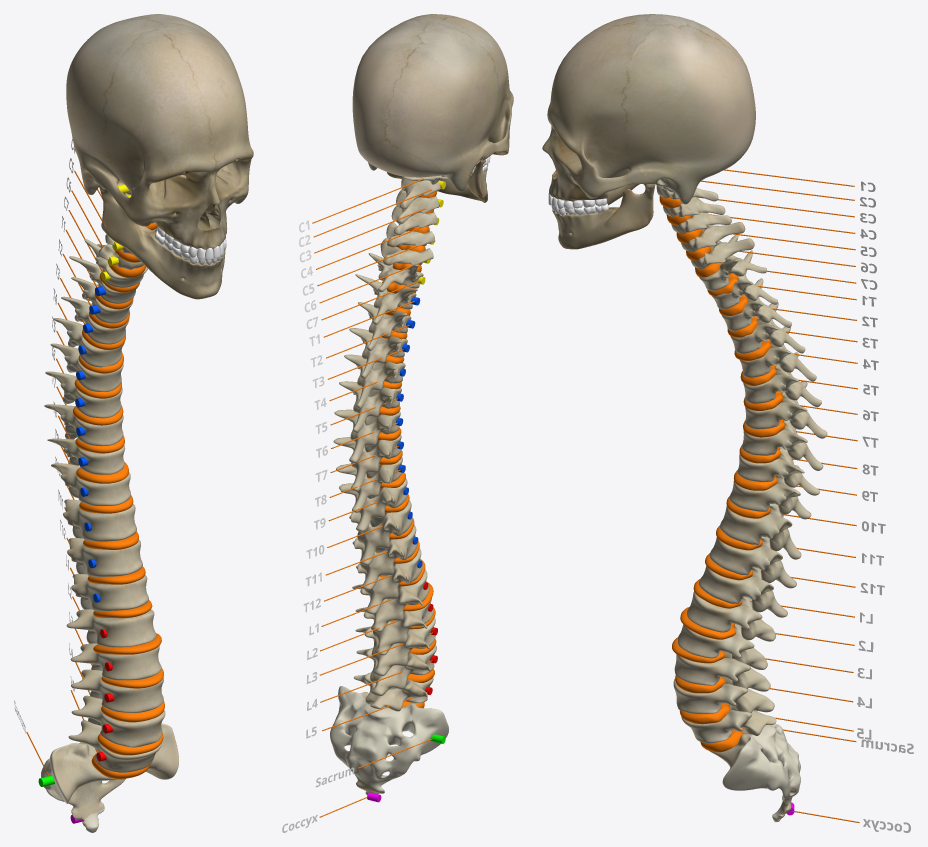
The model's file is compressed_spine.glb.
3 renders of one model, left to right at view 1: azimuth 30°, elevation 25°; view 2: azimuth 150°, elevation 25°; view 3: azimuth 270°, elevation 25°, orthographic. The views are drawn at different scales.
Visible parts, largest first — view 1: Male_Skeletal_Skull_Geo_skull bones_0, Male_Skeletal_Intervertabral_Discs_Geo_discs_0, Male_Skeletal_Sacrum_Geo_bones sacrum_0, Male_Skeletal_Mandible_Geo_jawbones_0, Male_Skeletal_L01_Geo_bones back_0, Male_Skeletal_T10_Geo_bones back_0, Male_Skeletal_L03_Geo_bones back_0, Male_Skeletal_L04_Geo_bones back_0, Male_Skeletal_T12_Geo_bones back_0, Male_Skeletal_T11_Geo_bones back_0, Male_Skeletal_L02_Geo_bones back_0, Male_Skeletal_T09_Geo_bones back_0 (+10 smaller); view 2: Male_Skeletal_Skull_Geo_skull bones_0, Male_Skeletal_Sacrum_Geo_bones sacrum_0, Male_Skeletal_Intervertabral_Discs_Geo_discs_0, Male_Skeletal_T10_Geo_bones back_0, Male_Skeletal_L03_Geo_bones back_0, Male_Skeletal_T11_Geo_bones back_0, Male_Skeletal_L04_Geo_bones back_0, Male_Skeletal_L01_Geo_bones back_0, Male_Skeletal_T12_Geo_bones back_0, Male_Skeletal_T06_Geo_bones back_0, Male_Skeletal_L02_Geo_bones back_0, Male_Skeletal_L05_Geo_bones back_0 (+15 smaller); view 3: Male_Skeletal_Skull_Geo_skull bones_0, Male_Skeletal_Intervertabral_Discs_Geo_discs_0, Male_Skeletal_Sacrum_Geo_bones sacrum_0, Male_Skeletal_Mandible_Geo_jawbones_0, Male_Skeletal_L01_Geo_bones back_0, Male_Skeletal_T10_Geo_bones back_0, Male_Skeletal_T11_Geo_bones back_0, Male_Skeletal_T12_Geo_bones back_0, Male_Skeletal_L04_Geo_bones back_0, Male_Skeletal_L03_Geo_bones back_0, Male_Skeletal_L02_Geo_bones back_0, Male_Skeletal_T09_Geo_bones back_0 (+14 smaller).
Part boxes in pixels (x1,y1,x2,y2): Male_Skeletal_Skull_Geo_skull bones_0: (66,14,253,249); Male_Skeletal_Intervertabral_Discs_Geo_discs_0: (73,222,164,778); Male_Skeletal_Sacrum_Geo_bones sacrum_0: (41,723,178,832); Male_Skeletal_Mandible_Geo_jawbones_0: (99,185,225,299); Male_Skeletal_L01_Geo_bones back_0: (66,609,156,647); Male_Skeletal_T10_Geo_bones back_0: (63,499,136,541); Male_Skeletal_L03_Geo_bones back_0: (71,669,163,712); Male_Skeletal_L04_Geo_bones back_0: (71,695,165,747); Male_Skeletal_T12_Geo_bones back_0: (71,574,148,611); Male_Skeletal_T11_Geo_bones back_0: (67,538,142,576); Male_Skeletal_L02_Geo_bones back_0: (70,643,161,680); Male_Skeletal_T09_Geo_bones back_0: (51,463,130,505); Male_Skeletal_Skull_Geo_skull bones_0: (352,14,513,191); Male_Skeletal_Sacrum_Geo_bones sacrum_0: (330,686,448,794); Male_Skeletal_Intervertabral_Discs_Geo_discs_0: (368,191,437,708); Male_Skeletal_T10_Geo_bones back_0: (349,500,412,565); Male_Skeletal_L03_Geo_bones back_0: (355,617,435,676); Male_Skeletal_T11_Geo_bones back_0: (352,524,417,590); Male_Skeletal_L04_Geo_bones back_0: (356,645,436,696); Male_Skeletal_L01_Geo_bones back_0: (352,569,429,631); Male_Skeletal_T12_Geo_bones back_0: (356,548,422,614); Male_Skeletal_T06_Geo_bones back_0: (334,409,400,463); Male_Skeletal_L02_Geo_bones back_0: (355,598,433,655); Male_Skeletal_L05_Geo_bones back_0: (354,672,433,711); Male_Skeletal_Skull_Geo_skull bones_0: (542,14,755,204); Male_Skeletal_Intervertabral_Discs_Geo_discs_0: (659,196,784,752); Male_Skeletal_Sacrum_Geo_bones sacrum_0: (709,710,800,822); Male_Skeletal_Mandible_Geo_jawbones_0: (552,184,655,249); Male_Skeletal_L01_Geo_bones back_0: (687,591,775,641); Male_Skeletal_T10_Geo_bones back_0: (720,504,801,559); Male_Skeletal_T11_Geo_bones back_0: (709,536,796,588); Male_Skeletal_T12_Geo_bones back_0: (699,566,787,617); Male_Skeletal_L04_Geo_bones back_0: (673,677,774,713); Male_Skeletal_L03_Geo_bones back_0: (674,652,770,691); Male_Skeletal_L02_Geo_bones back_0: (678,624,767,669); Male_Skeletal_T09_Geo_bones back_0: (729,465,811,519).
Size of the model in its own units: 13.87 by 81.66 by 34.39.
12 materials, 4 textured.
